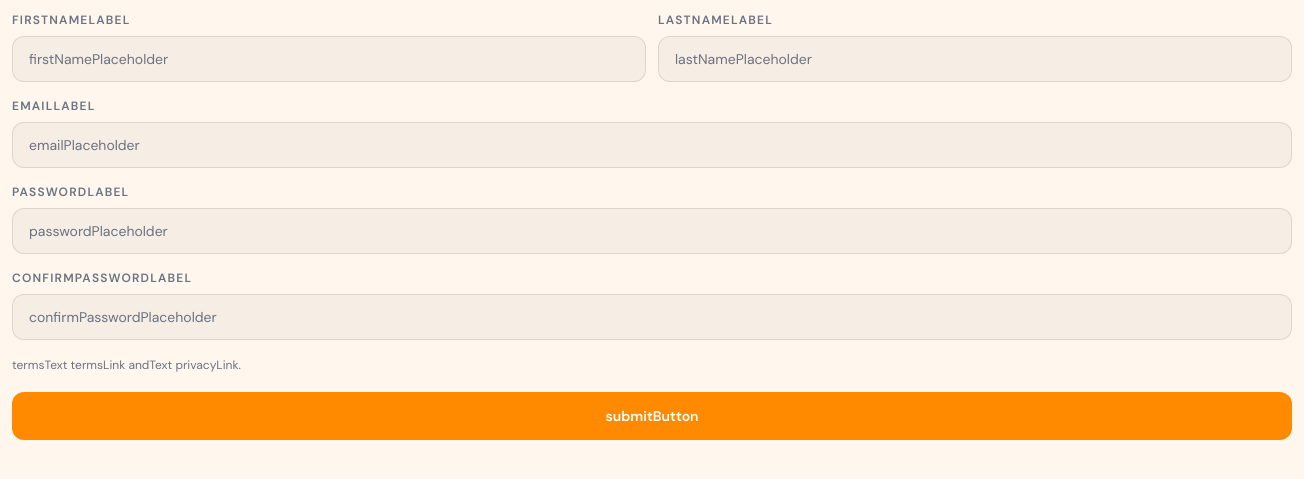
Scenario: RegisterForm › shows a password mismatch error after blurring confirm field
In the password field labelled "passwordLabel": coordinates (652, 231) [12,208,1292,254], type "password123"
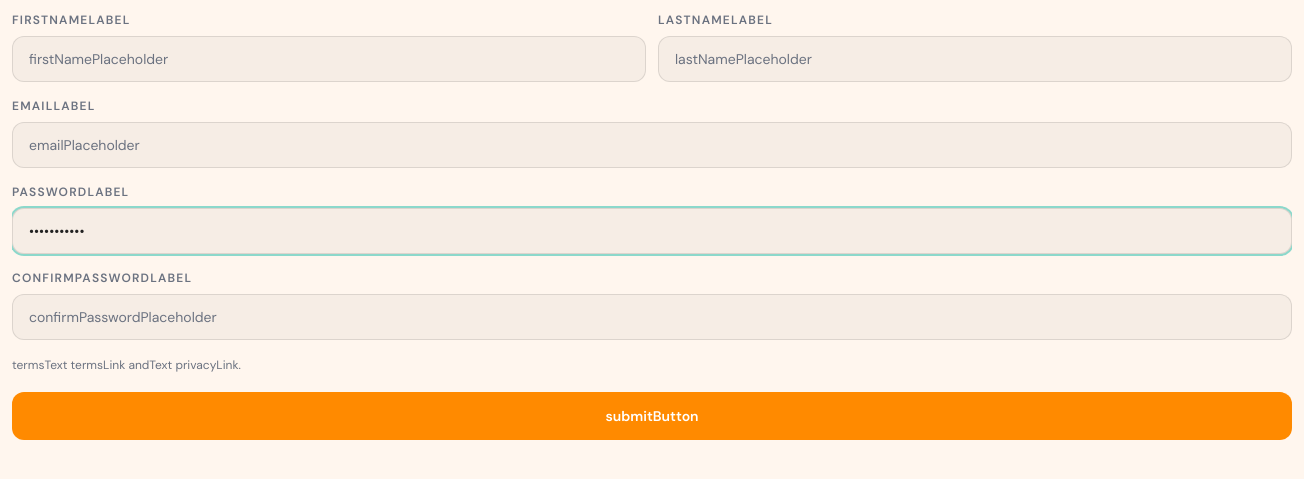
In the password field labelled "confirmPasswordLabel": coordinates (652, 317) [12,294,1292,340], type "different_!"
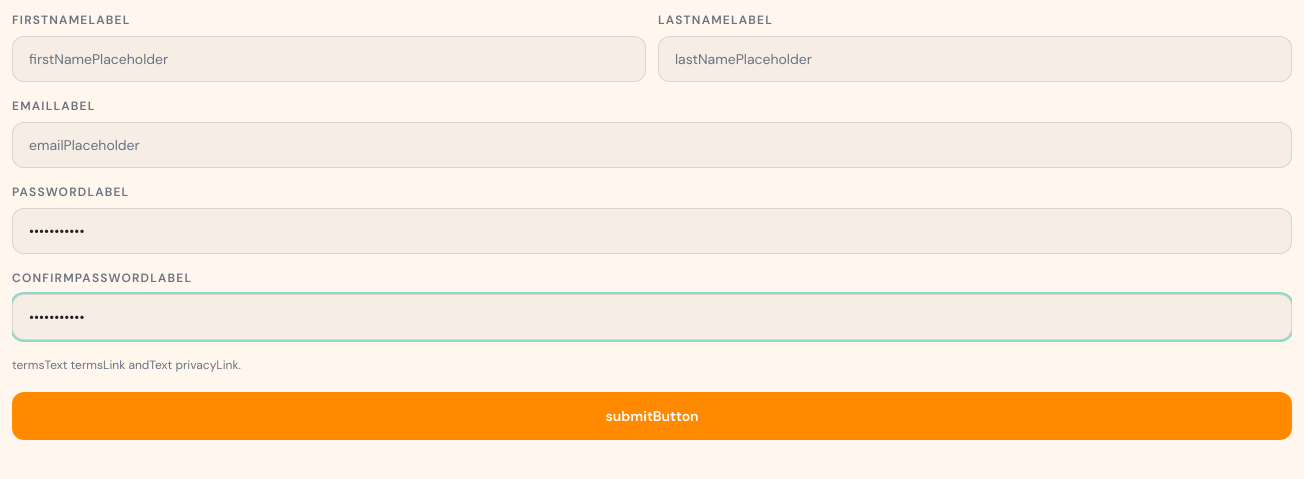
Leave the password field labelled "confirmPasswordLabel", box [12,294,1292,340]
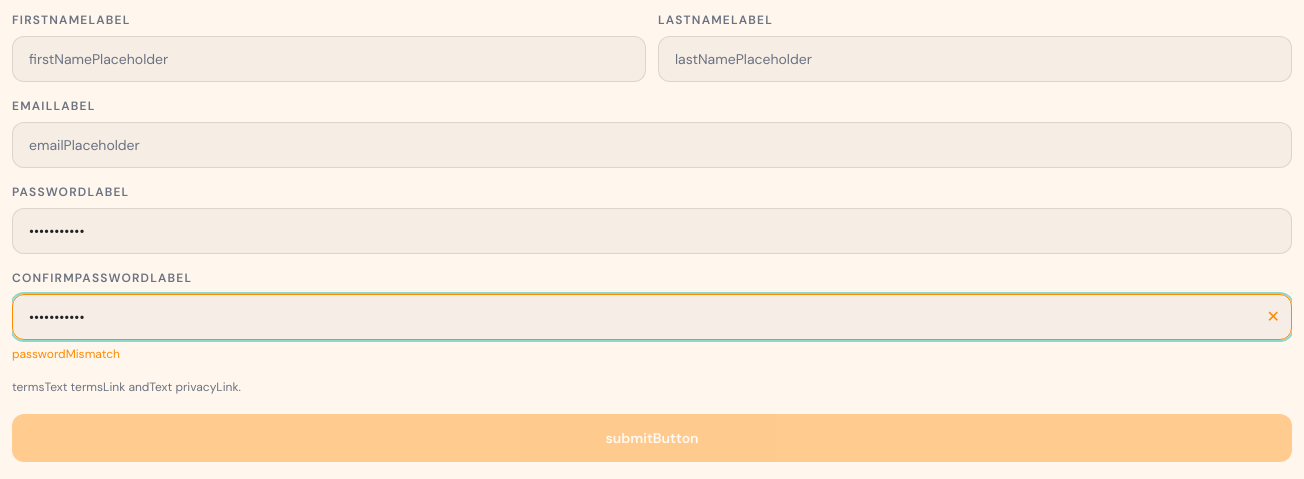
Now the text "passwordMismatch" is shown, box [12,346,120,362]
